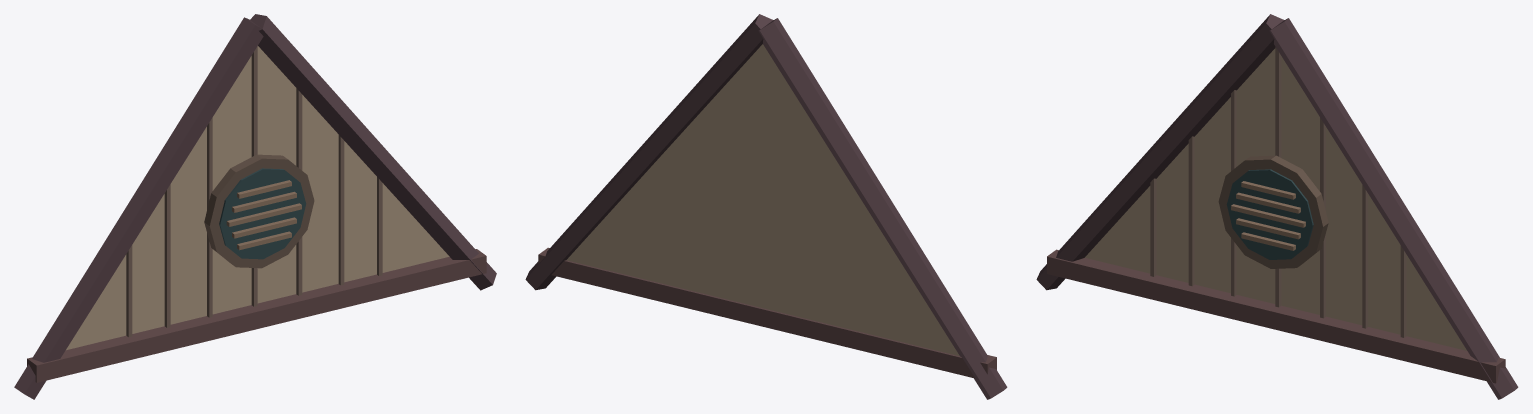
File: loft_gable.glb
The picture shows the model from 3 angles, left to right: view 1: azimuth 30°, elevation 25°; view 2: azimuth 150°, elevation 25°; view 3: azimuth 330°, elevation 25°; orthographic projection.
Visible parts, largest first — view 1: loft_gable; view 2: loft_gable; view 3: loft_gable.
Part boxes in pixels (<box>): loft_gable: <box>14,14,496,399</box>; loft_gable: <box>525,14,1007,399</box>; loft_gable: <box>1036,14,1518,399</box>.
Size of the model in its own units: 3.75 by 2.44 by 0.233.
